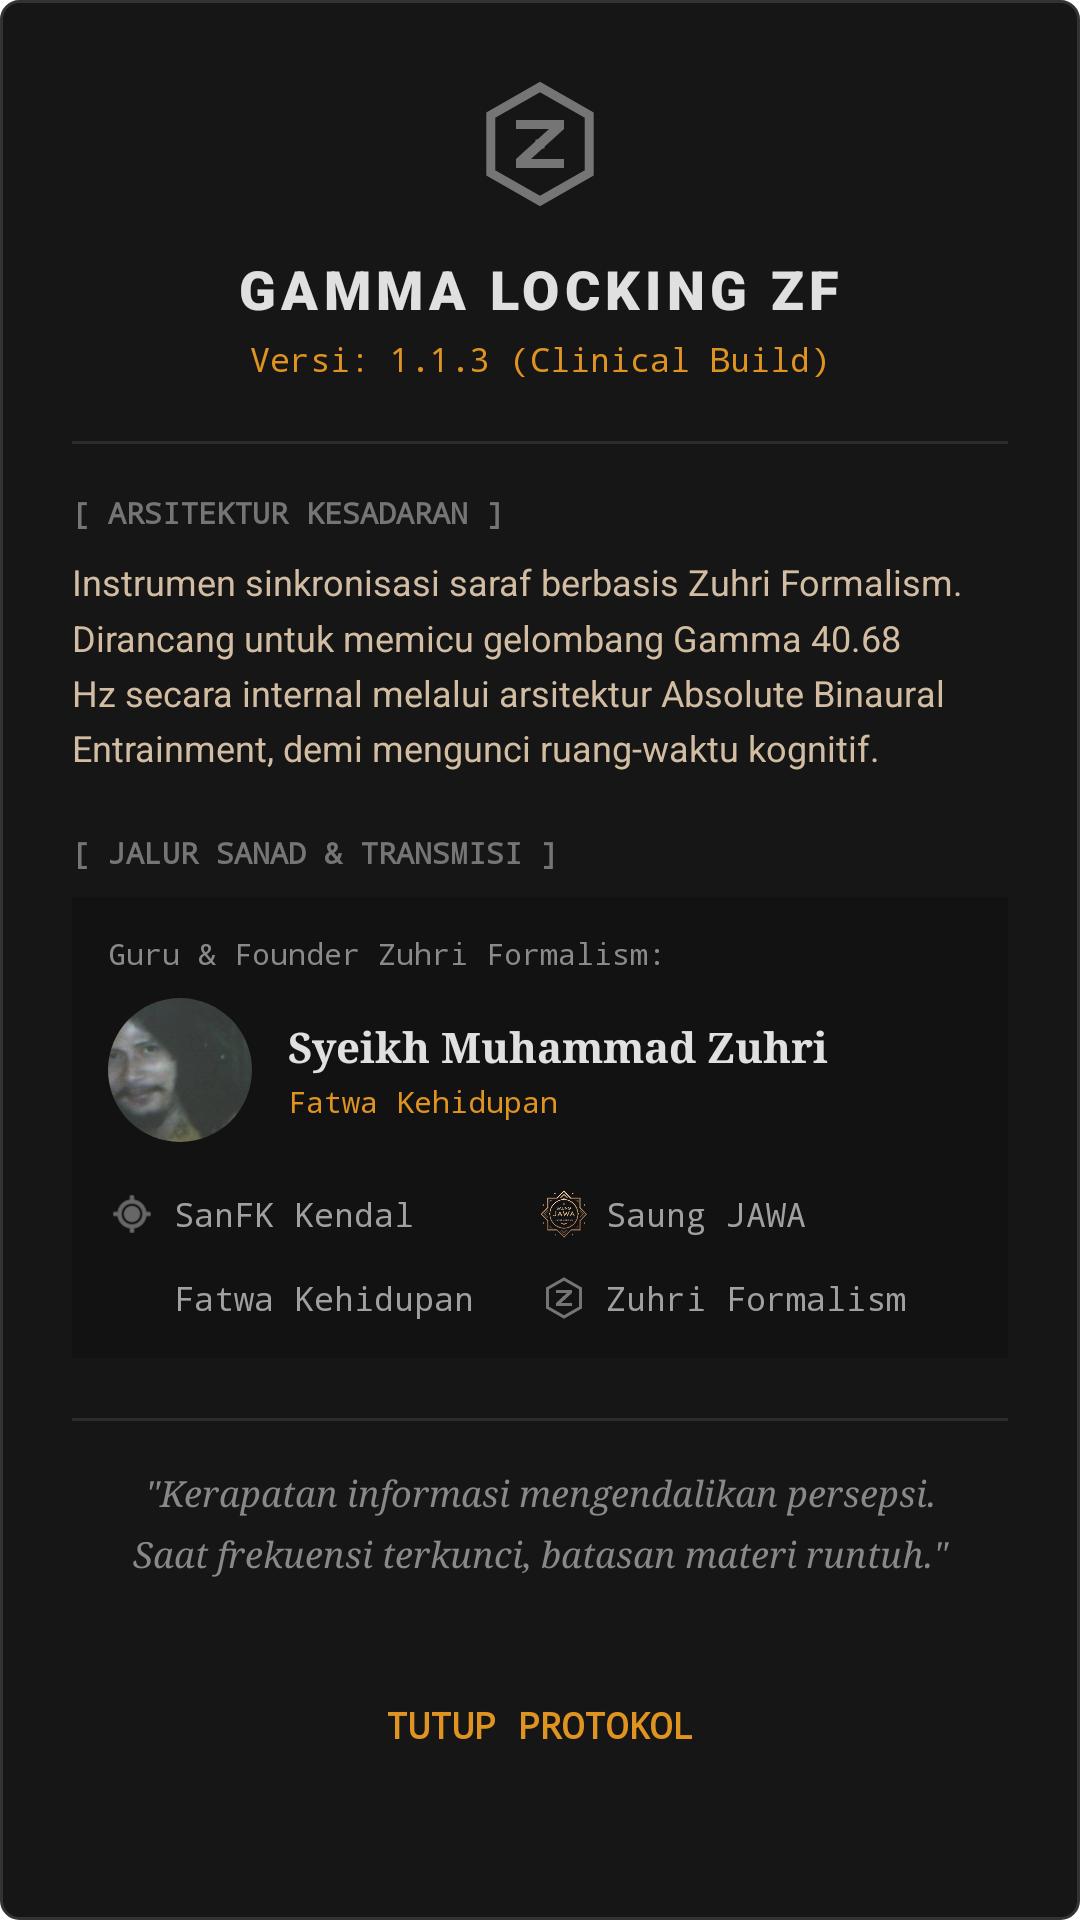

Icon bounding boxes for this 1080w x 1920h phone screenshot, format (x1, y1, x2, y2):
mylocation: (113, 1195, 151, 1233)
profil abah: (108, 998, 252, 1142)
